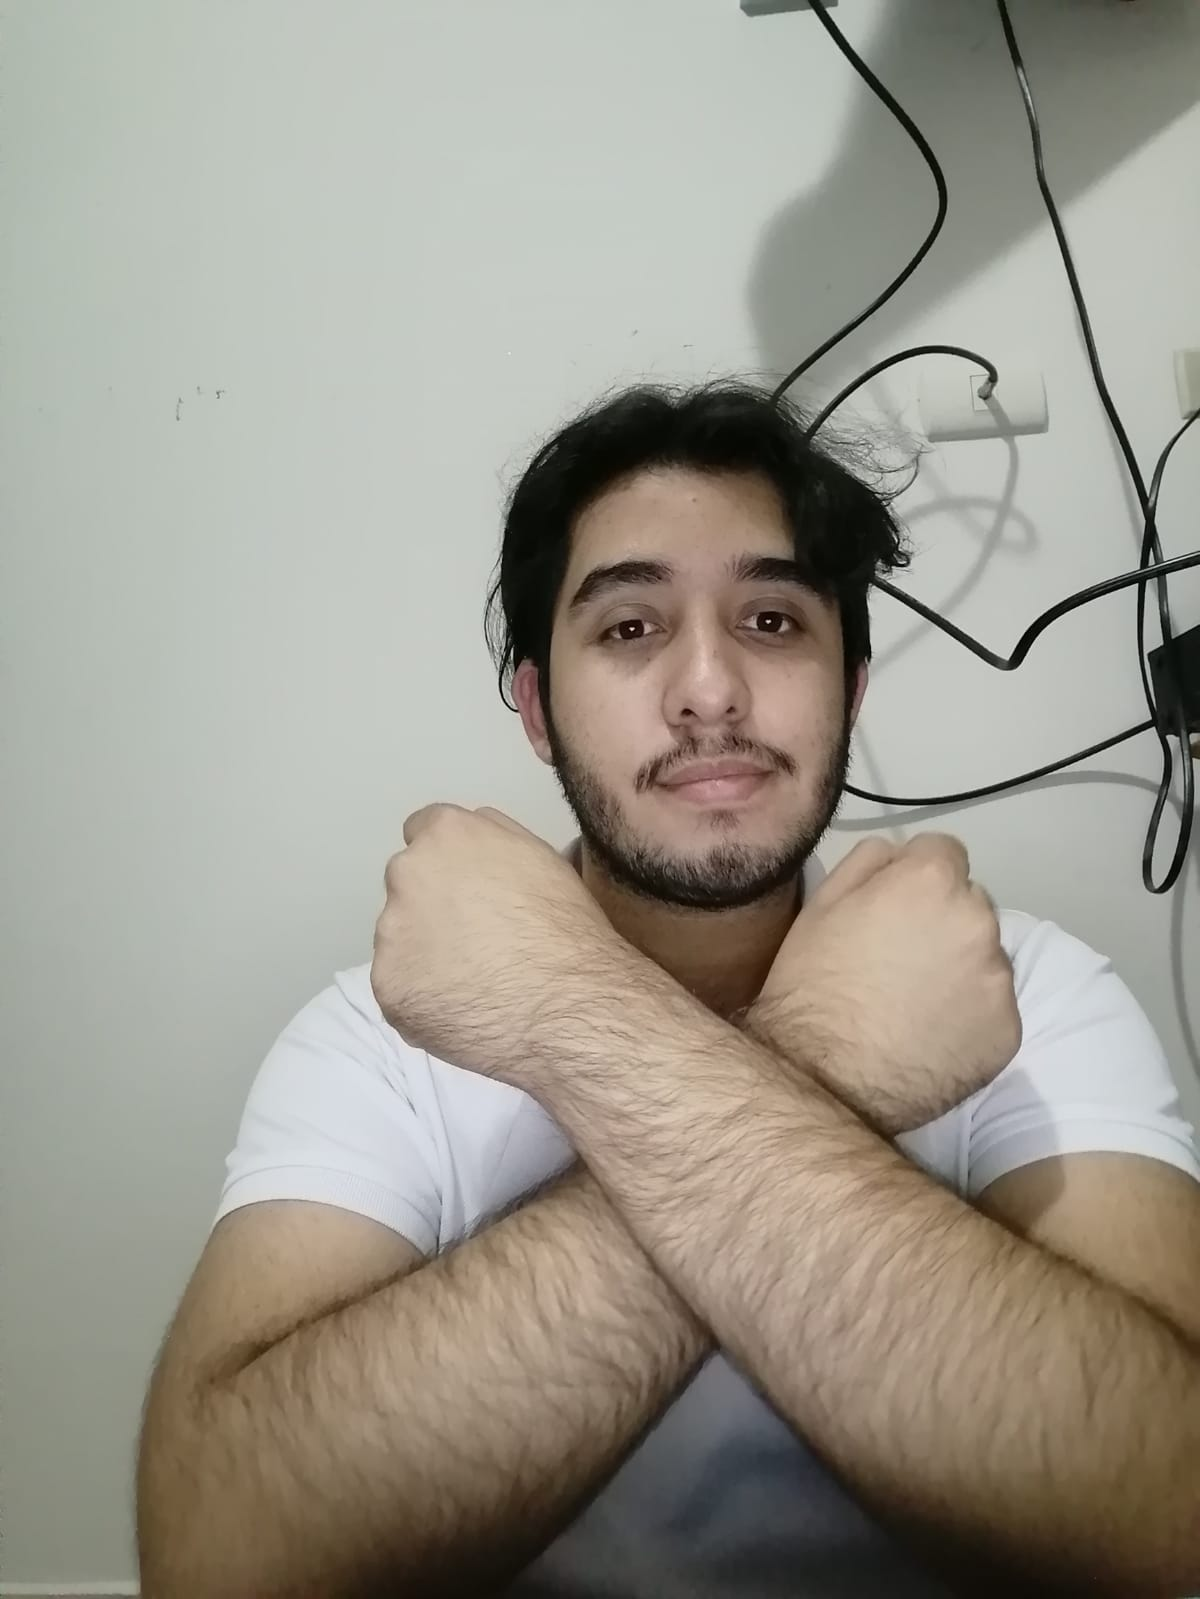Love: (372, 789, 1034, 1212)
